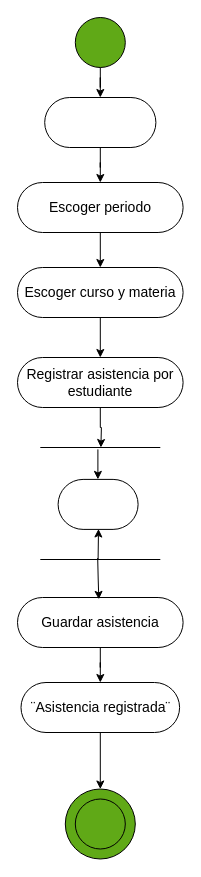
Some shapes in this 201 by 877 pixel diagram are drawn without their labels. Each missing label, with the centre of its shape:
Estado: point (97, 503)
Inicio: point (100, 122)
